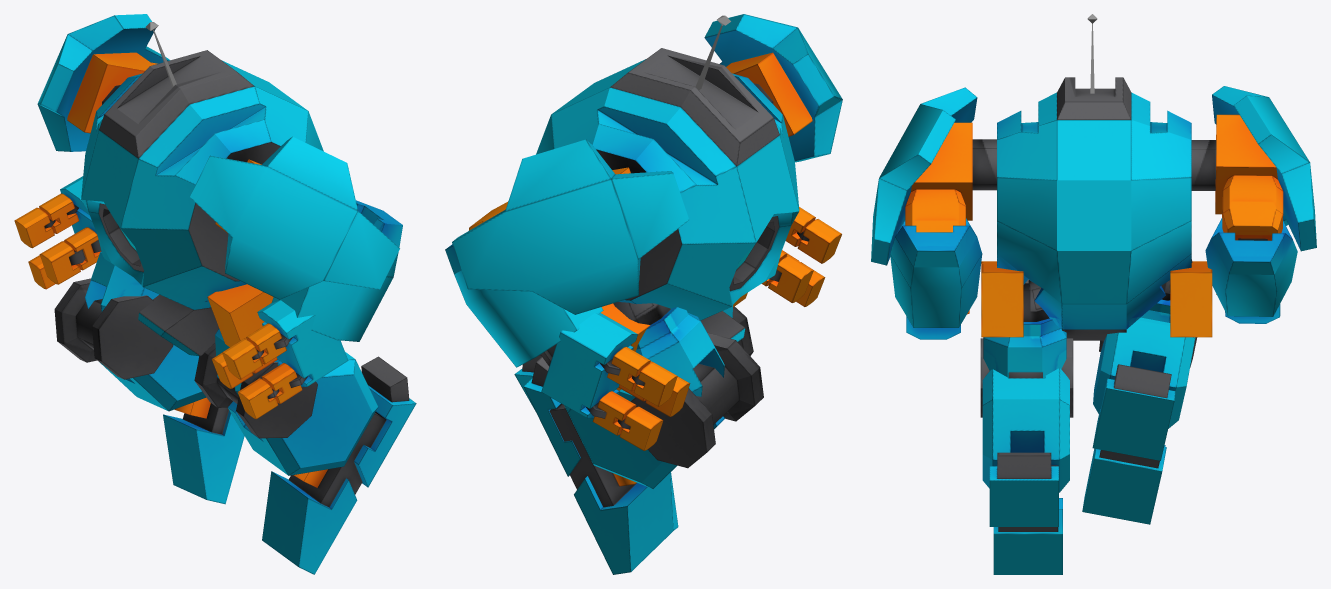
Rendered from Walk27.obj.
3 views of the same model, side by side, from view 1: azimuth 30°, elevation 25°; view 2: azimuth 150°, elevation 25°; view 3: azimuth 270°, elevation 25° (orthographic). The views are drawn at different scales.
Visible parts, largest first — view 1: Plane001, Object006, Object014, Object013, Object010, Object002, Object008, Object011, Object004, Object007, Object009; view 2: Plane001, Object002, Object004, Object010, Object011, Object006, Object003, Object009, Object008, Object014; view 3: Plane001, Object002, Object006, Object011, Object013, Object014, Object007, Object003, Object010, Object012, Object005, Object001 (+2 smaller).
Part boxes in pixels (x1,y1,x2,y2): Plane001: (81, 50, 323, 356); Object006: (189, 136, 399, 299); Object014: (262, 356, 416, 574); Object013: (194, 343, 378, 475); Object010: (54, 278, 206, 411); Object002: (37, 14, 169, 151); Object008: (211, 300, 348, 419); Object011: (163, 397, 244, 504); Object004: (14, 176, 101, 289); Object007: (271, 200, 402, 341); Object009: (85, 251, 158, 311); Plane001: (536, 48, 799, 390); Object002: (452, 139, 689, 314); Object004: (540, 313, 690, 450); Object010: (564, 332, 763, 488); Object011: (523, 357, 673, 574); Object006: (704, 14, 842, 162); Object003: (445, 244, 603, 367); Object009: (613, 302, 724, 396); Object008: (761, 207, 841, 306); Object014: (514, 354, 678, 530); Plane001: (981, 77, 1212, 340); Object002: (1212, 86, 1316, 251); Object006: (871, 87, 977, 265); Object011: (1082, 364, 1175, 524); Object013: (980, 338, 1073, 492); Object014: (989, 452, 1062, 574); Object007: (890, 218, 982, 327); Object003: (1205, 218, 1297, 316); Object010: (1093, 317, 1197, 428); Object012: (983, 280, 1066, 378); Object005: (972, 139, 996, 190); Object001: (1191, 140, 1216, 190).
Size of the model in its own units: 115 by 229 by 182.
